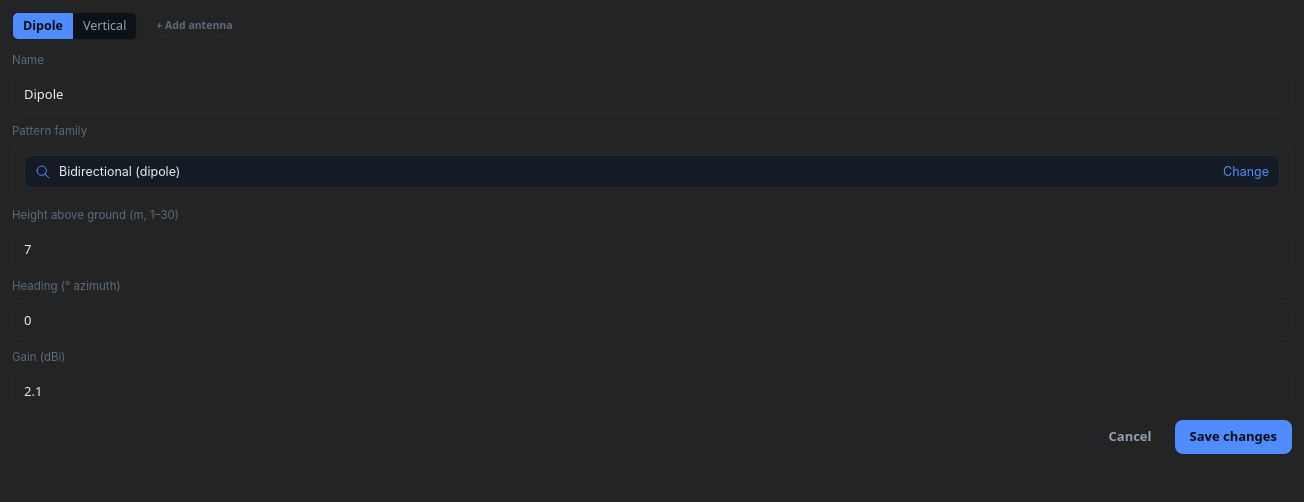
Test: AntennaList › locked, rejects a height above 30 m with an inline error and no commit
Replace the text in the number field named "Height above ground (m)" with "100". click: point(652, 249)
box: [24, 239, 1280, 259]
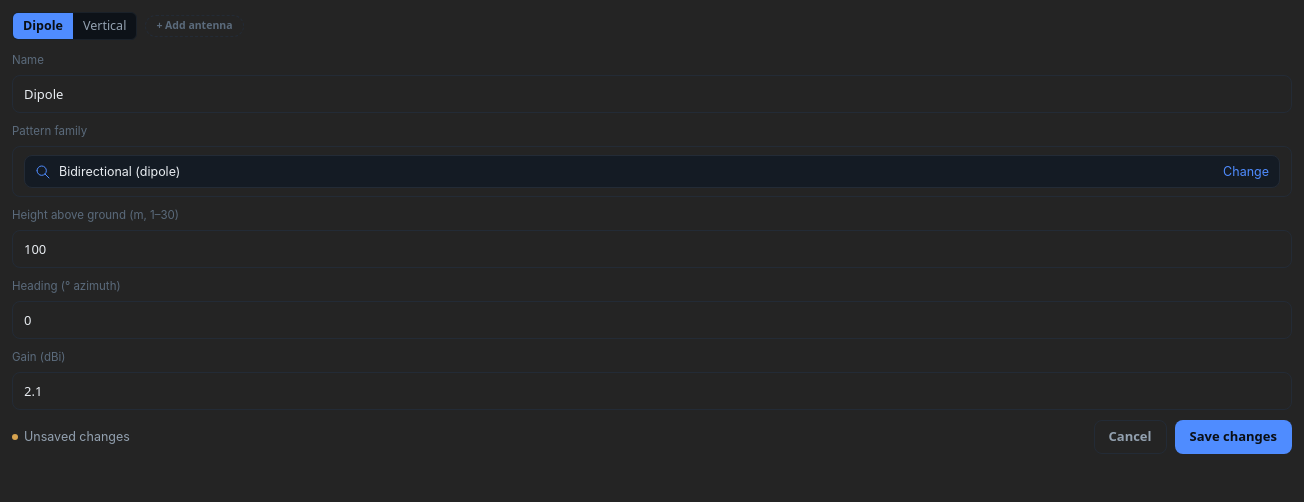
Click the button "Save changes". click: point(1233, 437)
box: [1174, 420, 1292, 454]
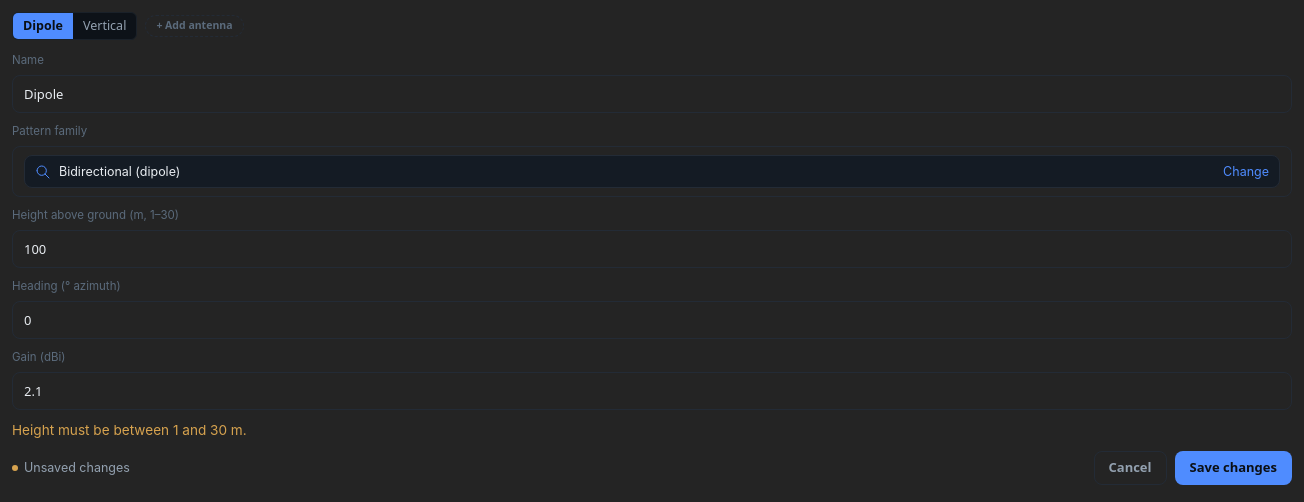
Expected: the text "Height must be between 1 and 30 m." is shown, [12, 422, 247, 438]
